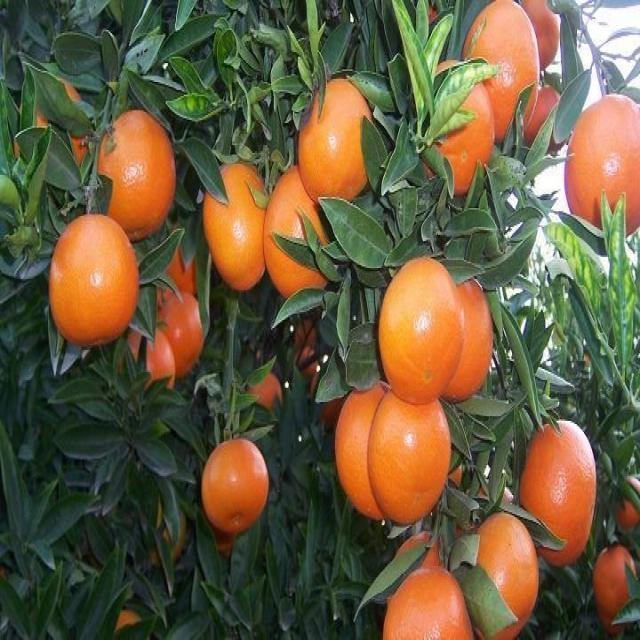Jeruk Sudah Matang: (42, 210, 143, 354), (256, 157, 348, 310), (92, 100, 185, 248), (293, 68, 383, 220), (378, 256, 466, 405), (518, 414, 598, 571), (195, 151, 277, 304), (457, 2, 542, 147), (366, 384, 452, 525), (561, 93, 639, 247), (459, 511, 541, 640), (425, 57, 498, 198), (335, 383, 391, 523), (437, 276, 497, 405), (380, 563, 479, 640), (198, 439, 269, 532), (153, 289, 208, 384), (592, 543, 637, 622)
